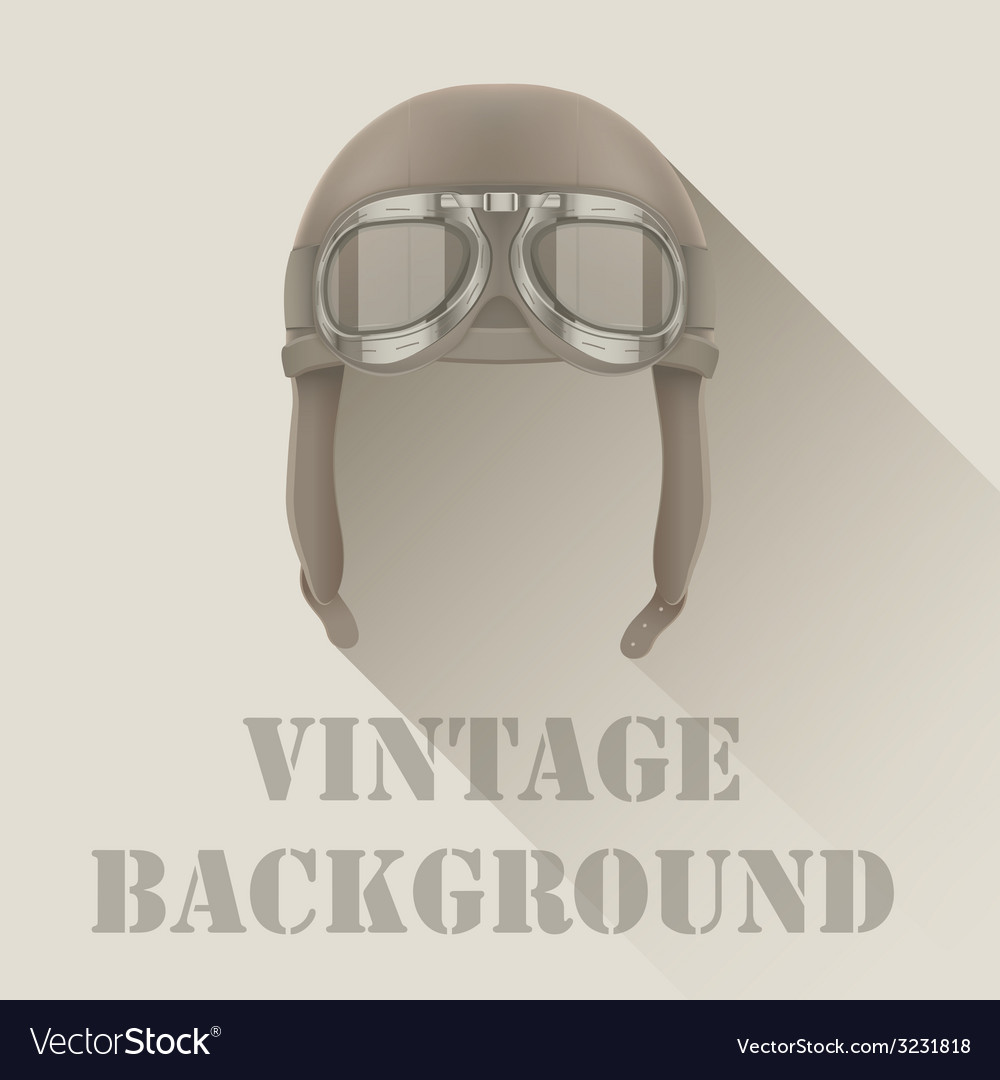with_helmet: (293, 78, 732, 449)
